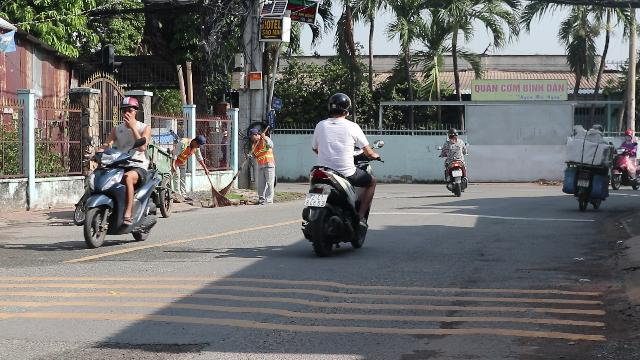helmet: (325, 92, 351, 118), (118, 97, 140, 123)
licenseplate: (306, 193, 326, 205)
motorcyclist: (74, 97, 164, 250), (298, 91, 378, 255)
